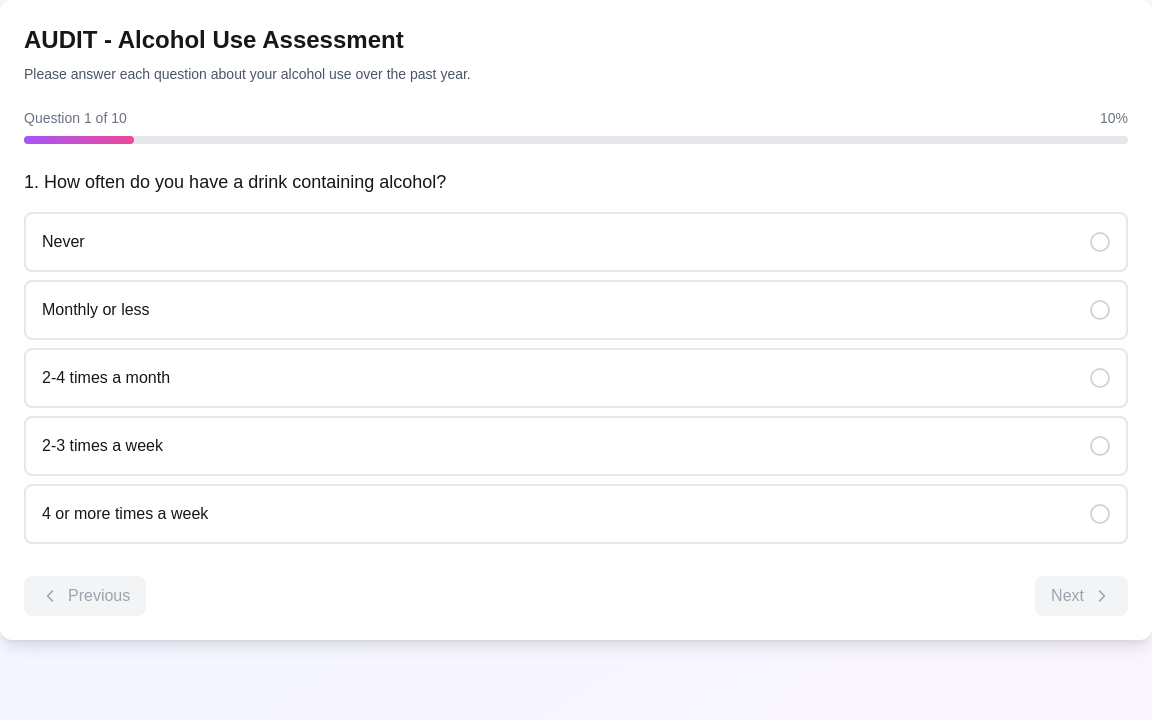
AUDIT Assessment › shows progress as user answers questions
Check: the text "Question 1 of 10" is shown, box [24,108,127,128]
Check: the text "10%" is shown, box [1100,108,1128,128]
Click the button "Never" at [63, 242], box [24,212,1128,272]
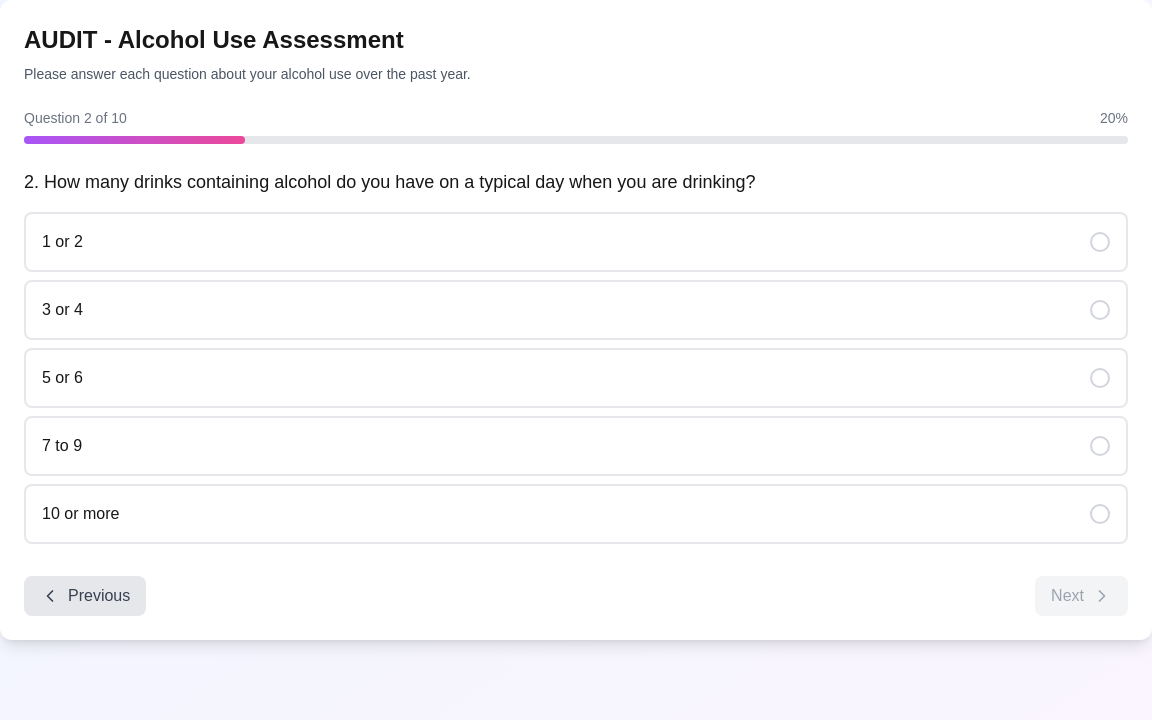
Check: the text "Question 2 of 10" is shown, box [24,108,127,128]
Check: the text "20%" is shown, box [1100,108,1128,128]
